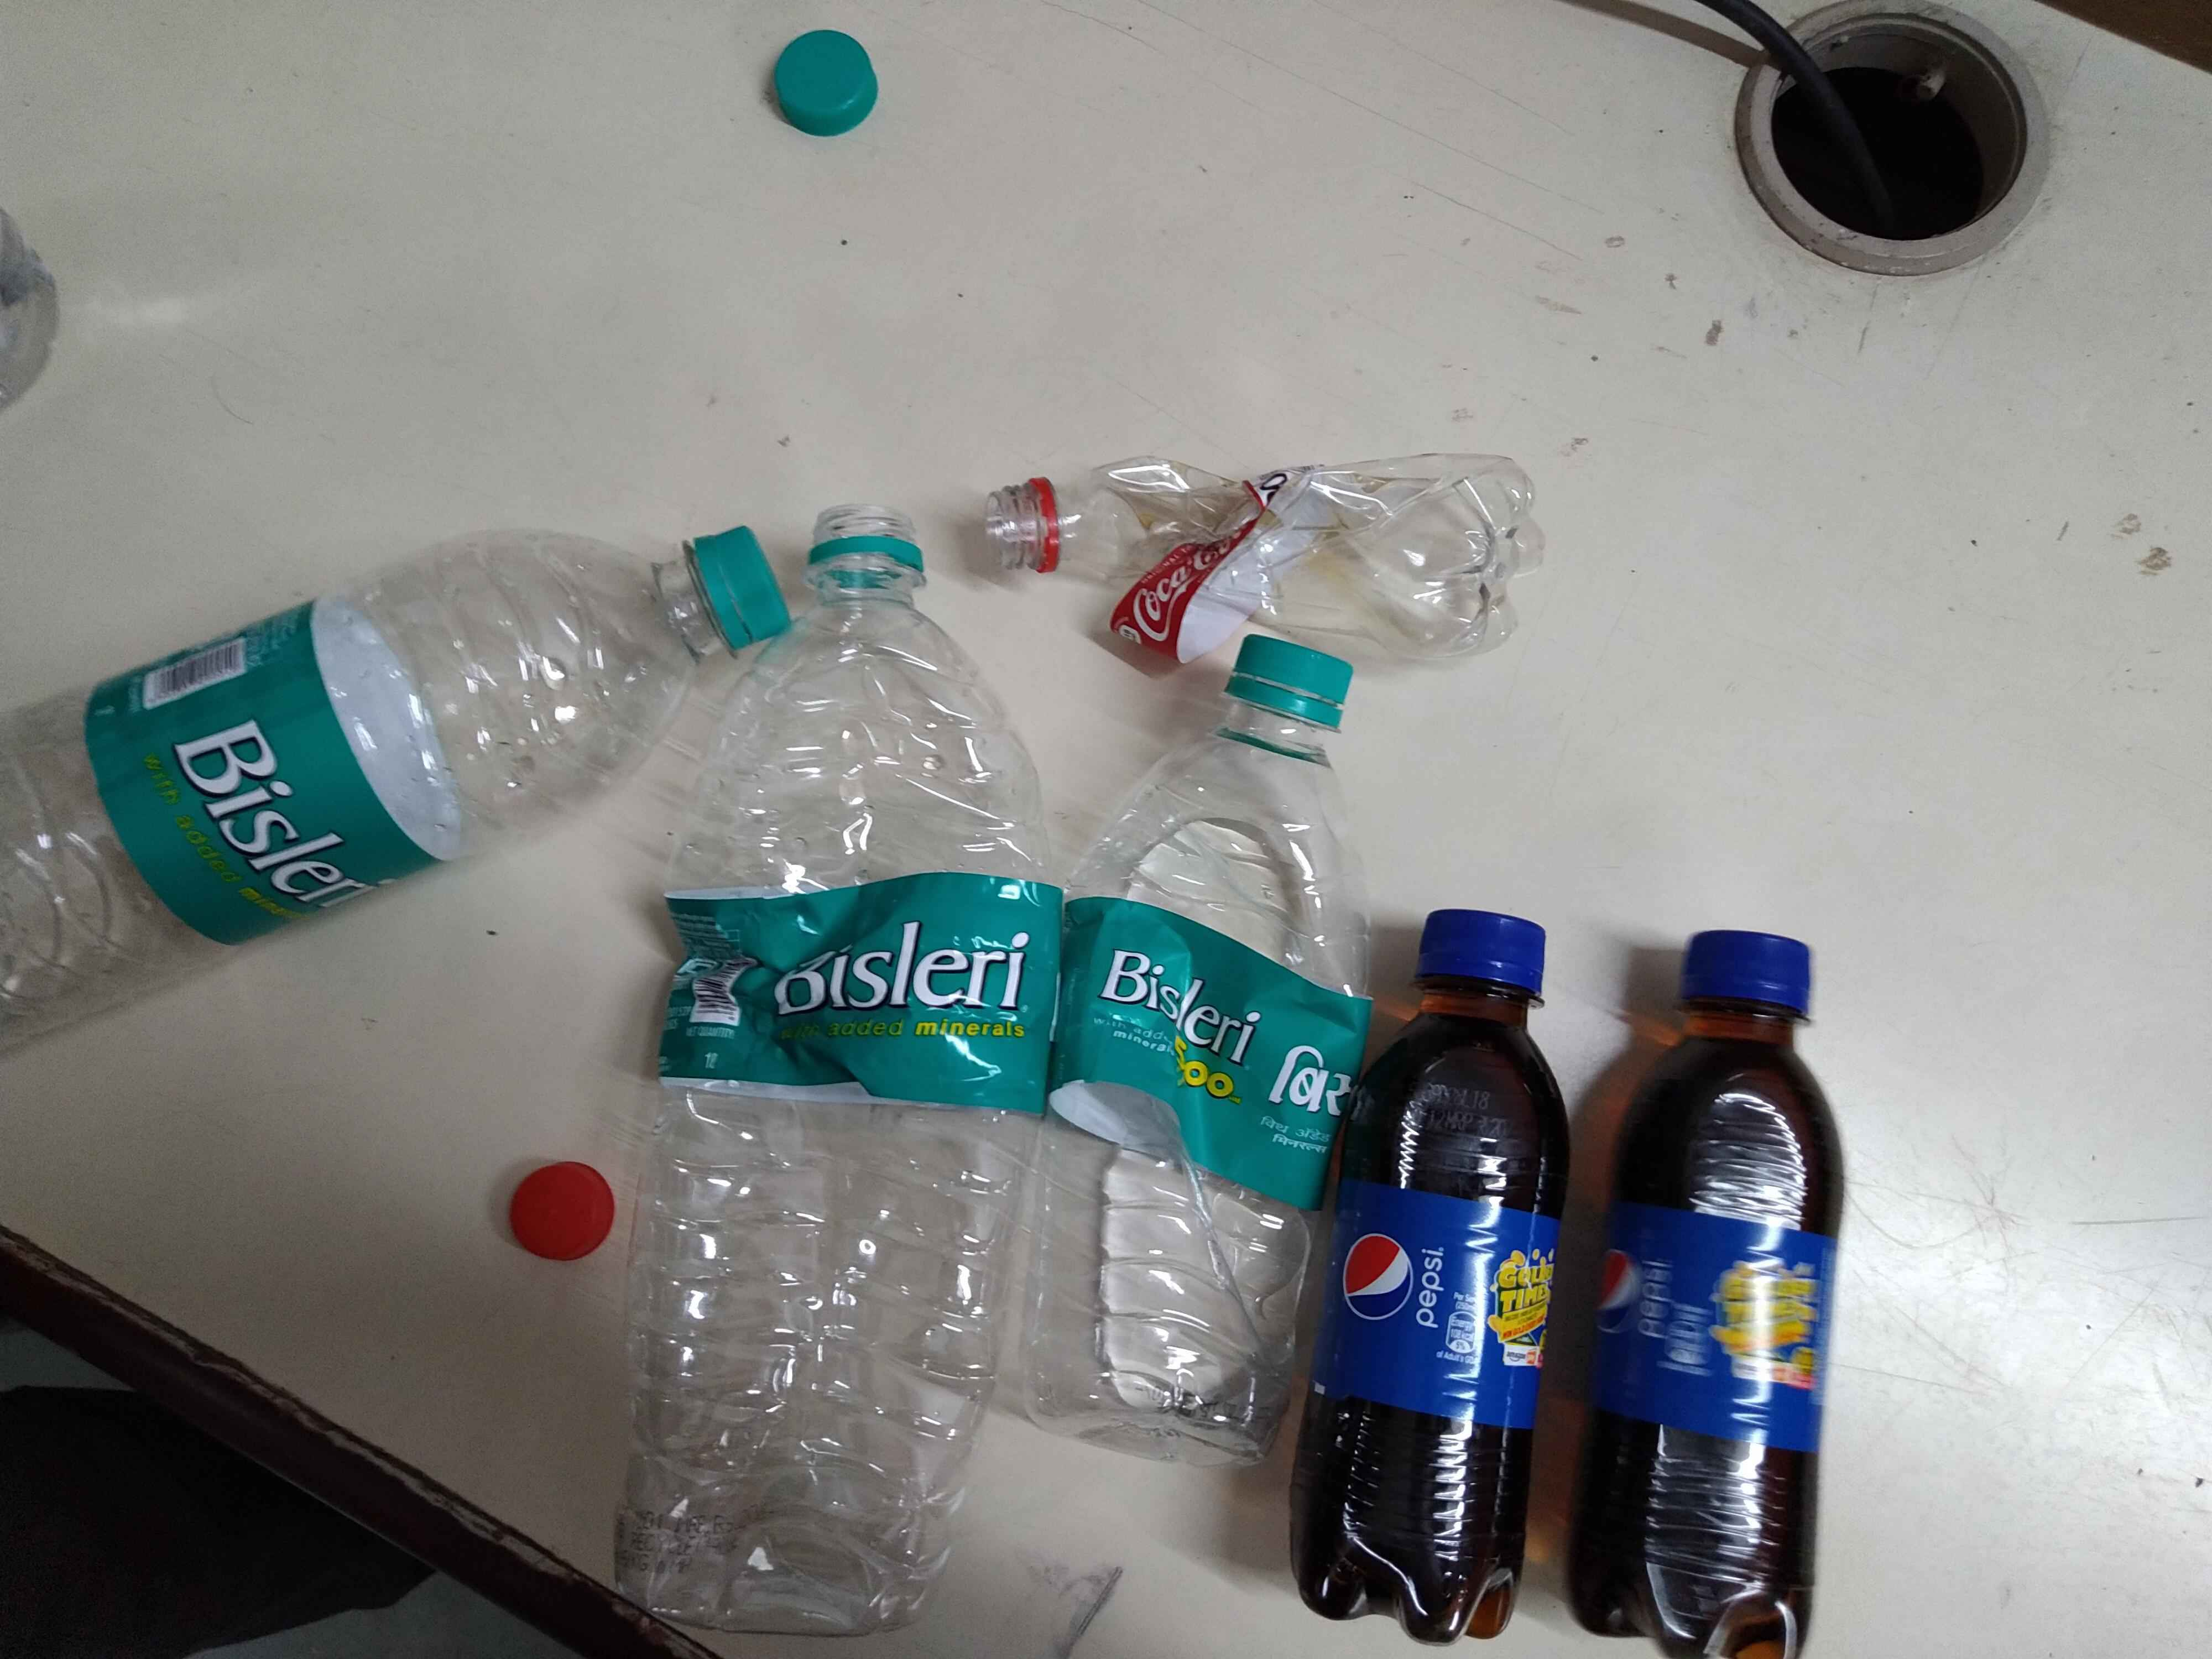Bisleri: (681, 897, 1061, 1065), (143, 674, 402, 911), (1094, 924, 1352, 1150)
Coca-Cola: (1108, 532, 1247, 638)
pepsi: (1601, 1201, 1831, 1419), (1329, 1197, 1477, 1363)
